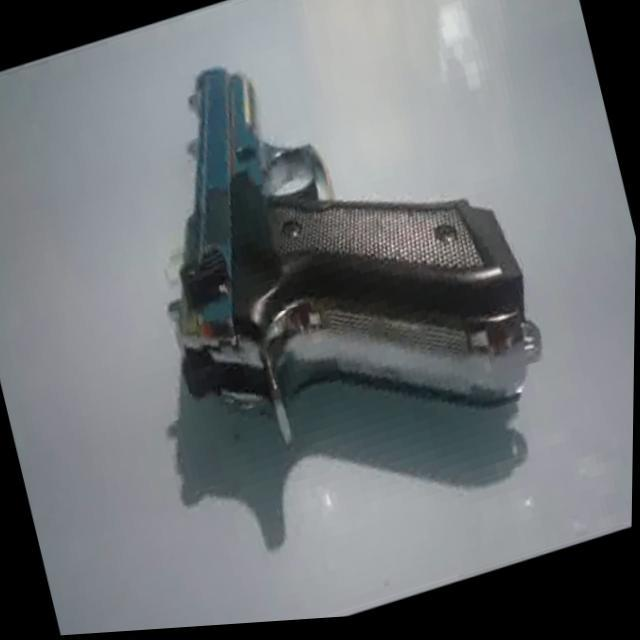weapon: (110, 0, 560, 503)
